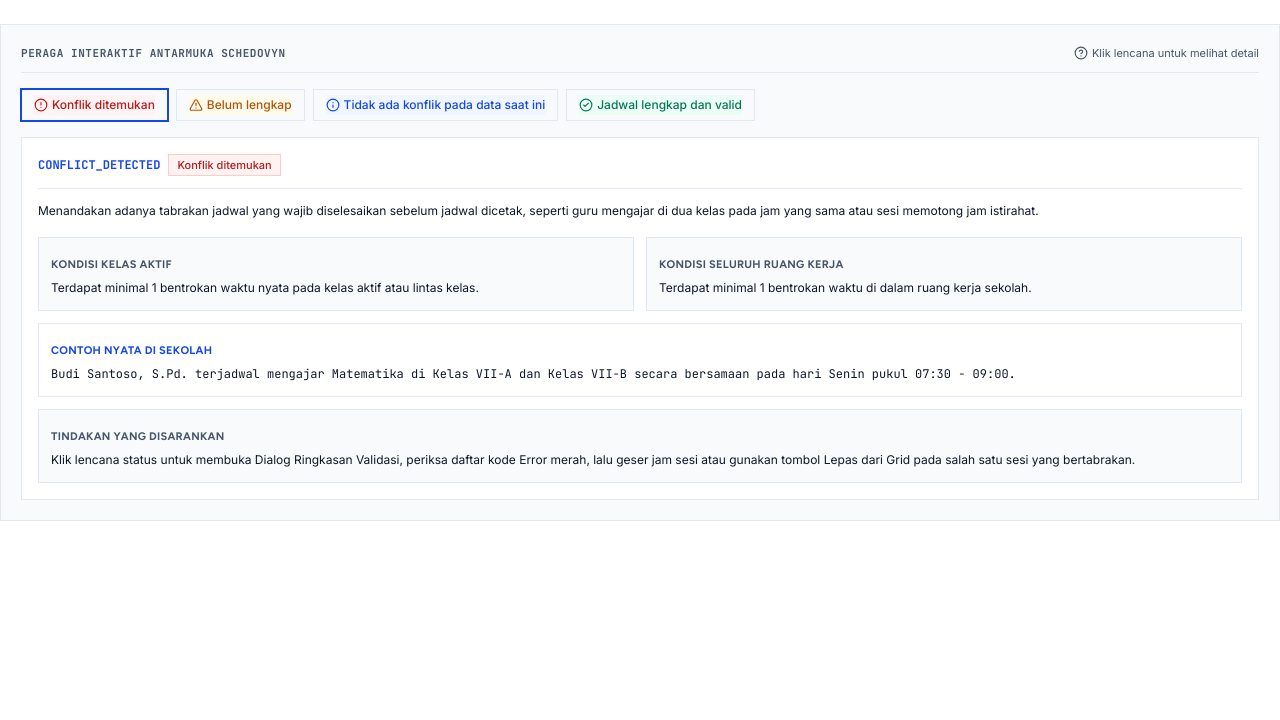
Test: TASK-03: Implementasi 5 Komponen Replika UI Interaktif Schedovyn & Integrasi MDX › 1. ValidationStatusBadgesReplica (FR-UG-03, AC-UG-04, AC-UG-05) › merender ke-4 lencana dan merespons interaksi pergantian status dengan menampilkan rincian kondisi serta contoh sekolah
Expected: the text "PERAGA INTERAKTIF ANTARMUKA SCHEDOVYN" is shown, x1=21 y1=45 x2=286 y2=62
Expected: the text "CONFLICT_DETECTED" is shown, x1=38 y1=157 x2=160 y2=173
Klik lencana "Belum lengkap"
Click the button "Belum lengkap".
click(240, 104)  # box x1=176 y1=88 x2=305 y2=120
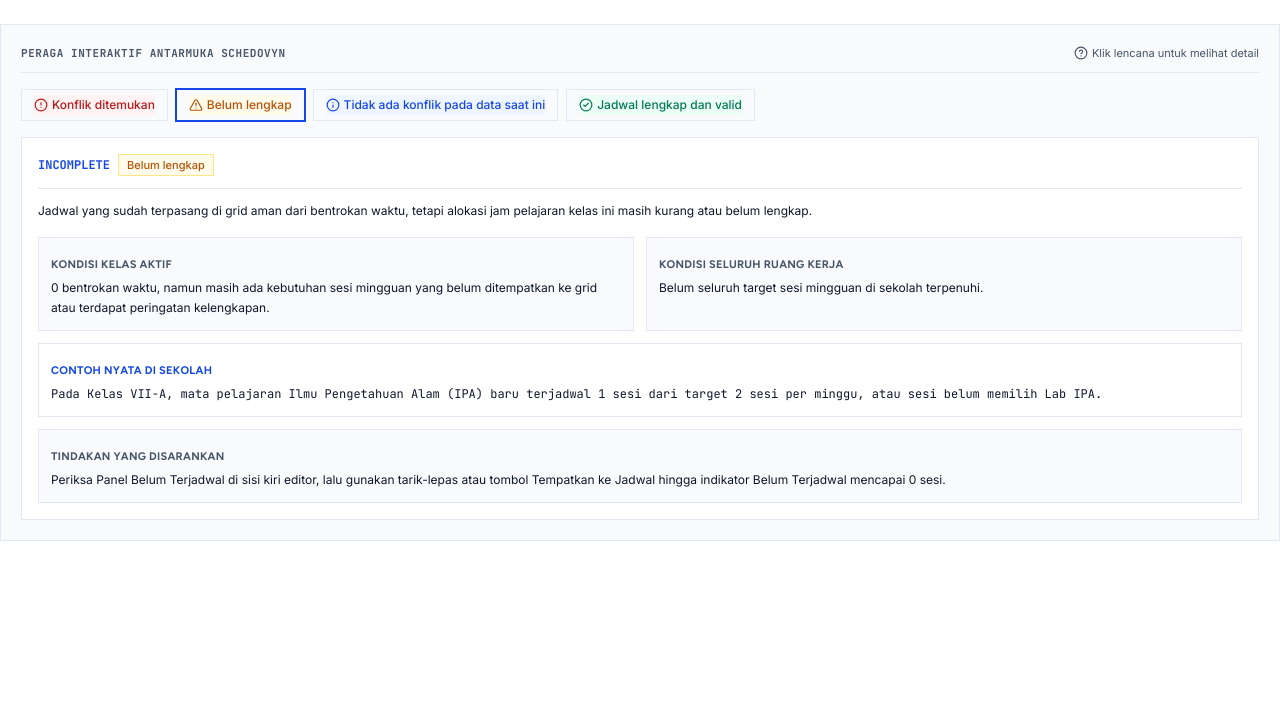
Now the text "INCOMPLETE" is shown, box x1=38 y1=157 x2=110 y2=173
Now the text "Tempatkan ke Jadwal" is shown, box x1=51 y1=472 x2=946 y2=487
Klik lencana "Tidak ada konflik pada data saat ini"
Click the button "Tidak ada konflik pada data saat ini".
click(435, 104)  # box x1=313 y1=88 x2=558 y2=120
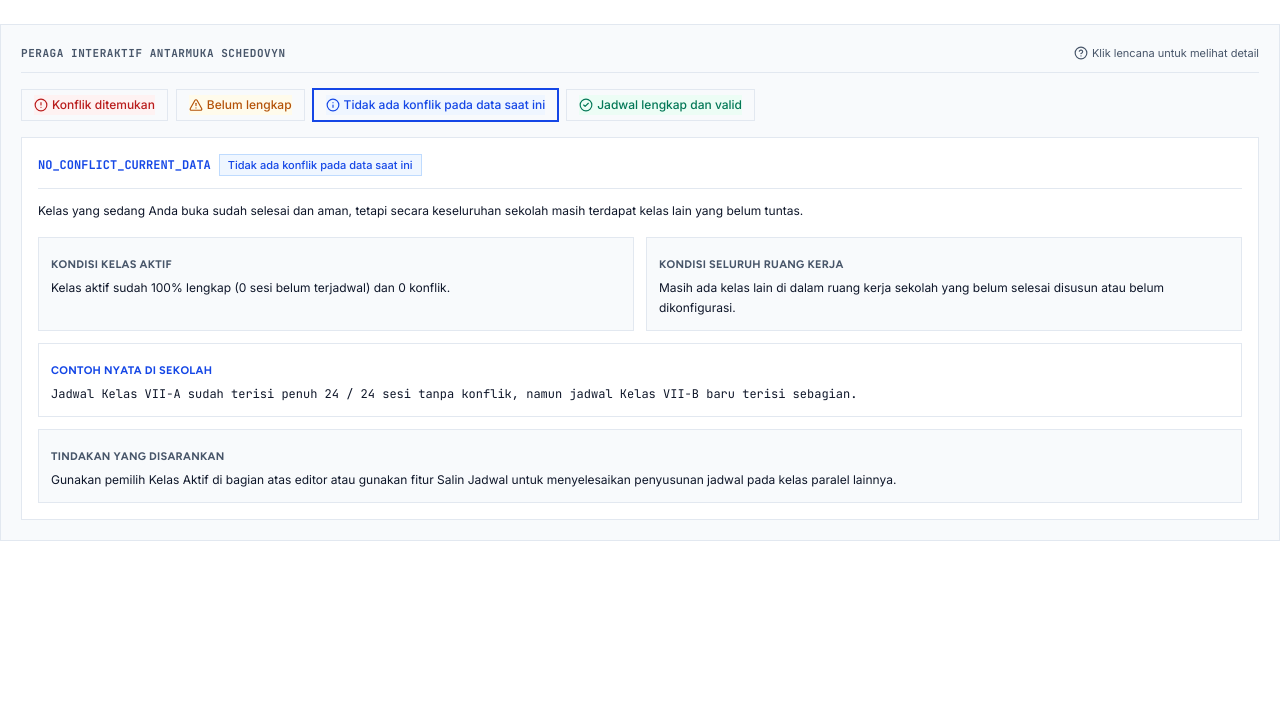
Now the text "NO_CONFLICT_CURRENT_DATA" is shown, box x1=38 y1=157 x2=211 y2=173
Now the text "Salin Jadwal" is shown, box x1=51 y1=472 x2=896 y2=487
Klik lencana "Jadwal lengkap dan valid"
Click the button "Jadwal lengkap dan valid".
click(661, 104)  # box x1=566 y1=88 x2=755 y2=120
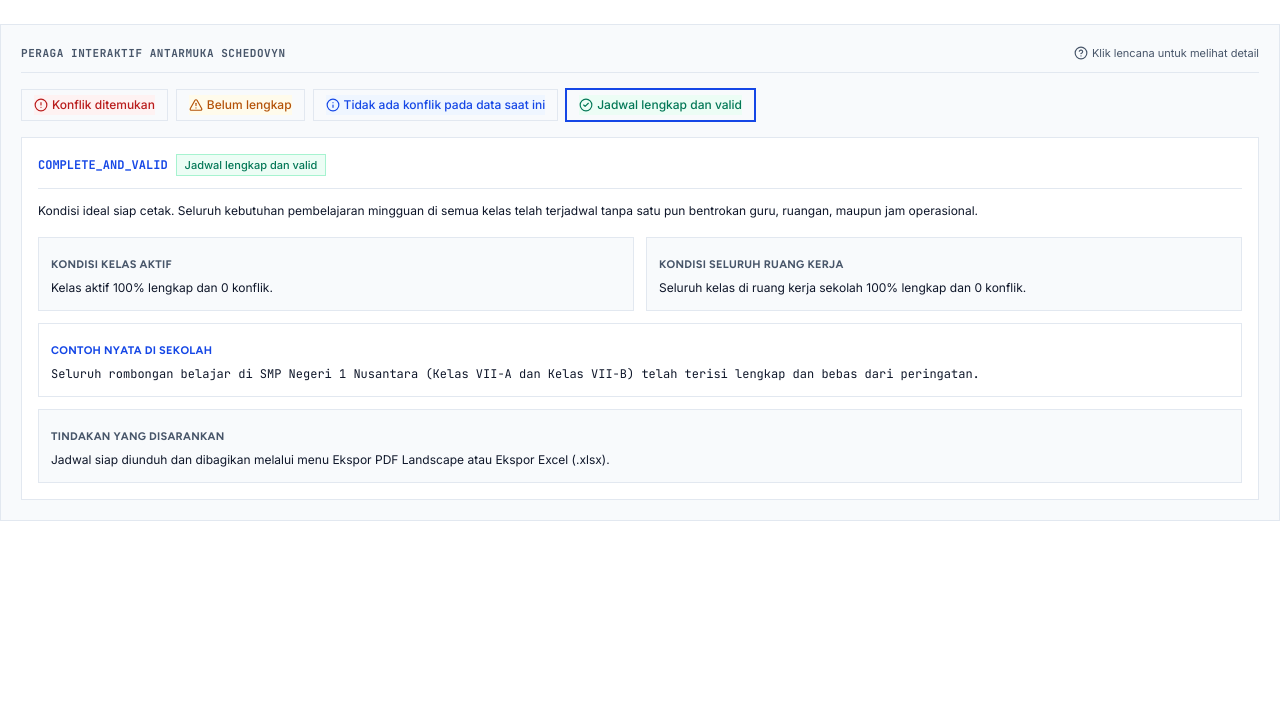
Now the text "COMPLETE_AND_VALID" is shown, box x1=38 y1=157 x2=168 y2=173
Now the text "Ekspor PDF Landscape" is shown, box x1=51 y1=452 x2=610 y2=467
